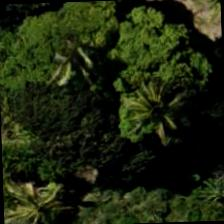Kelapa_Sawit: (2, 161, 92, 223)
